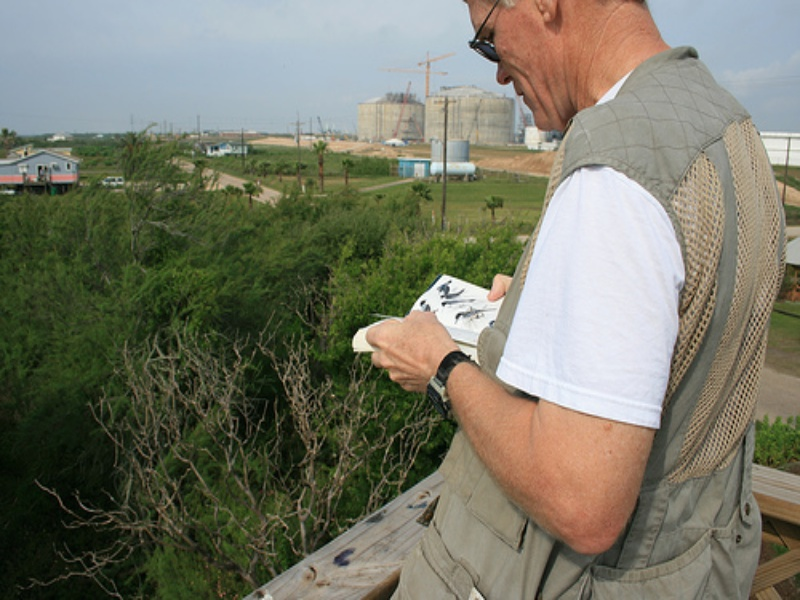person: (366, 1, 786, 600)
